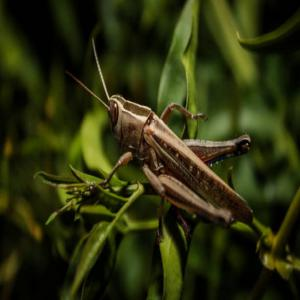locust: (81, 43, 267, 246)
